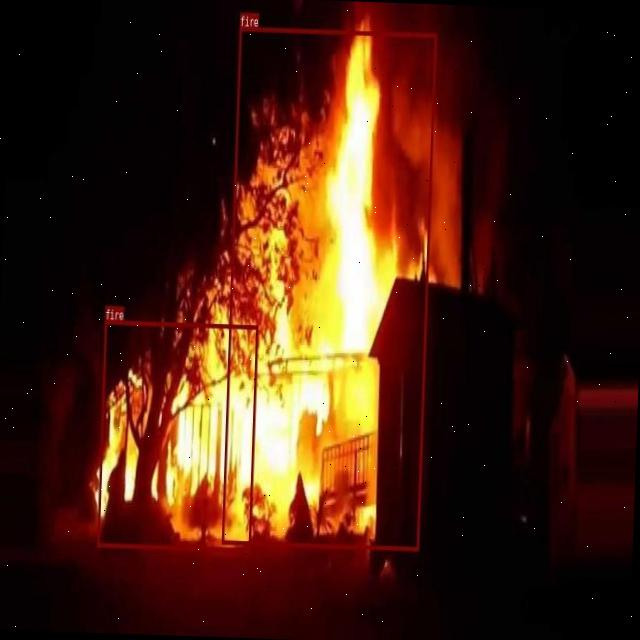fire: (221, 26, 436, 550), (97, 318, 258, 552)
